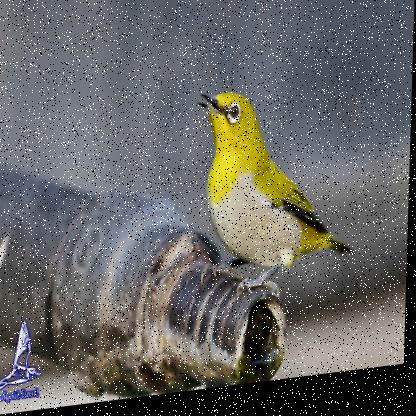Burung: (194, 84, 361, 311)
